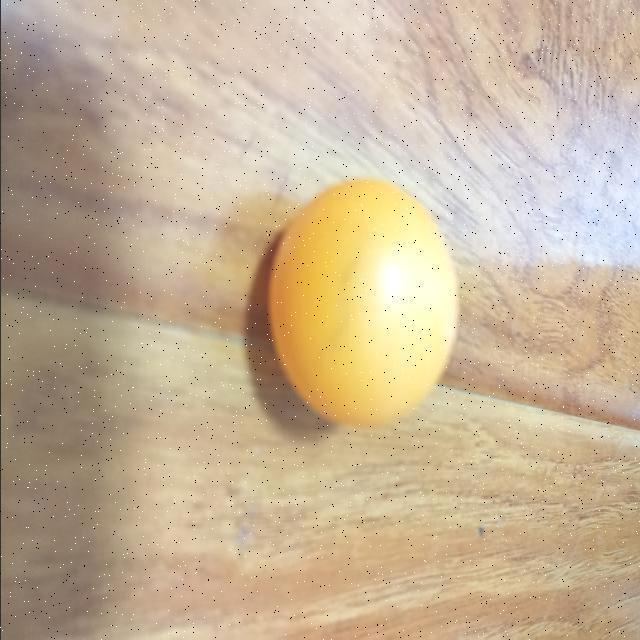ping-pong-ball: (269, 180, 456, 426)
